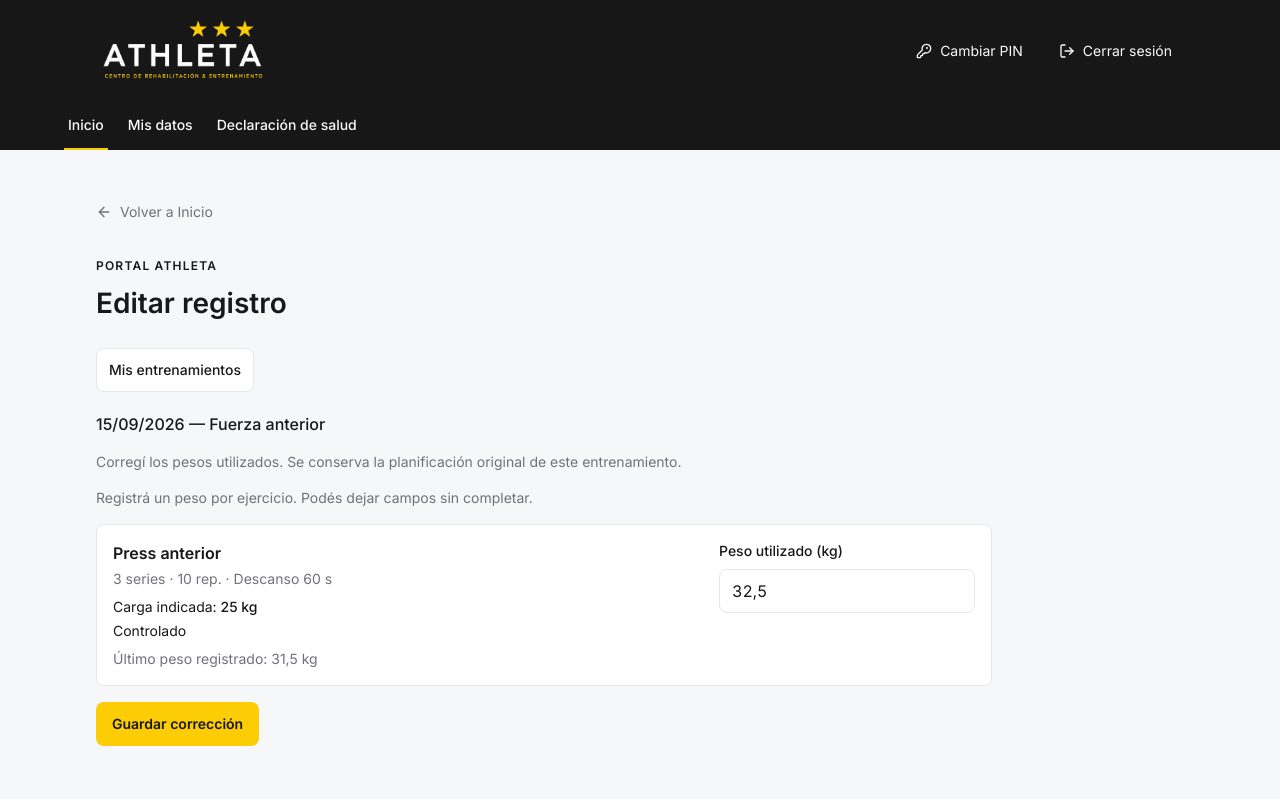
Test: corrects historical snapshot weights even with no active routine, preserving the original date and entries
The image size is (1280, 799).
Expected: the text "15/09/2026 — Fuerza anterior" is shown, left=96, top=414, right=325, bottom=434
Expected: the heading "Press anterior" is shown, left=113, top=543, right=221, bottom=563
Replace the text in the field labelled "Peso utilizado (kg)" with "34" at (847, 591), box left=719, top=569, right=975, bottom=613
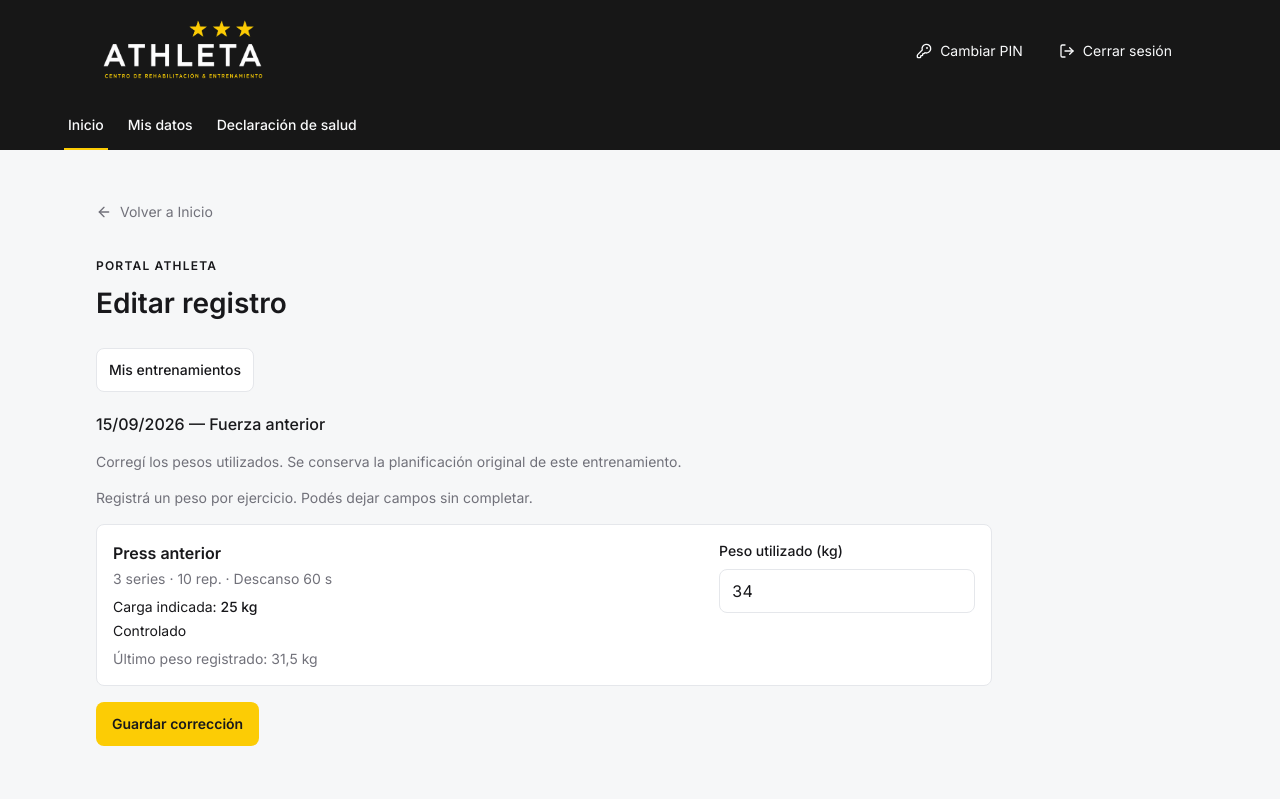
Click the button "Guardar corrección" at (178, 724), box left=96, top=702, right=259, bottom=746
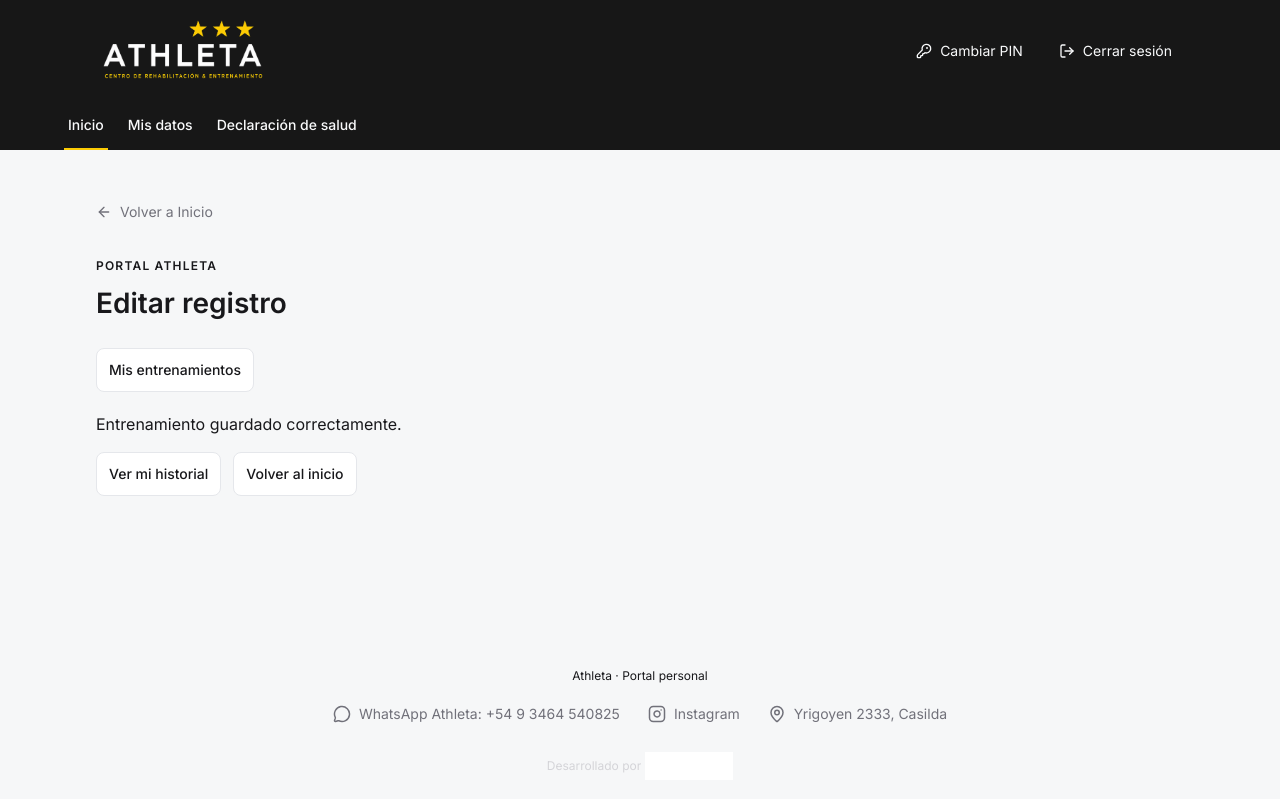
Result: the text "Entrenamiento guardado correctamente." is shown at left=96, top=414, right=402, bottom=434
